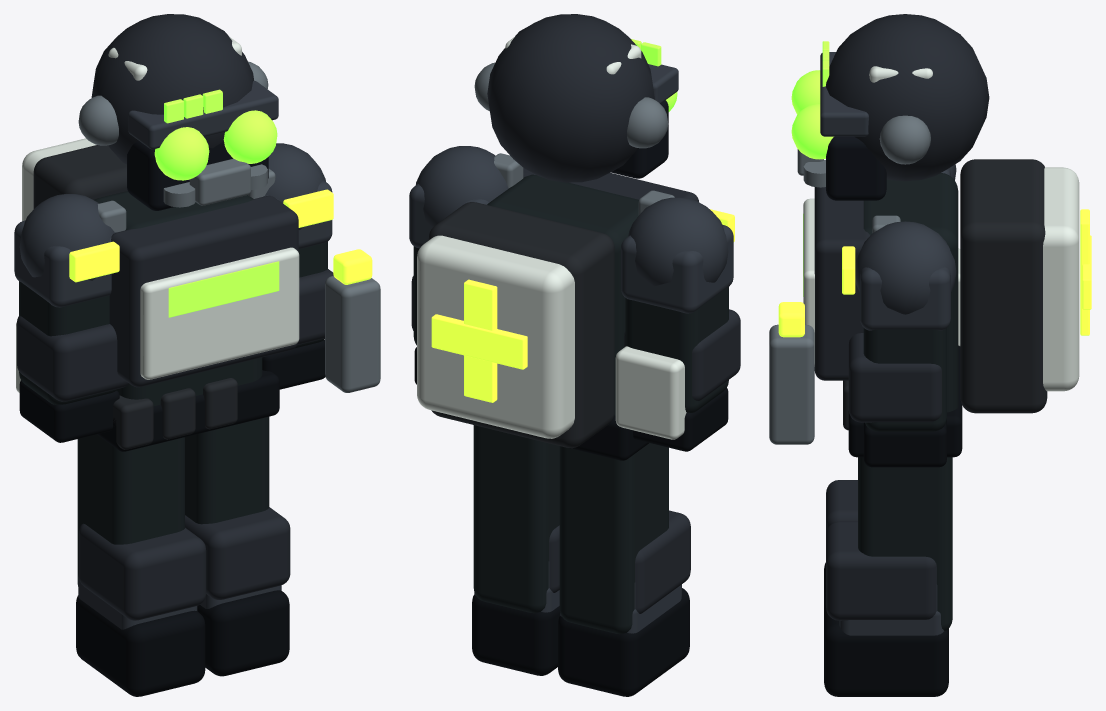
File: medic_l03.glb
The picture shows the model from 3 angles, left to right: view 1: azimuth 30°, elevation 25°; view 2: azimuth 150°, elevation 25°; view 3: azimuth 270°, elevation 25°; orthographic projection. The views are drawn at different scales.
Visible parts, largest first — view 1: trouser (×2), shaped_knee_guard (×2), boot (×2), segmented_vest, reinforced_vest, rounded_helmet, forearm_plate (×2), shoulder_joint (×2), aid_injector, glove (×2), body, sleeve (×2) (+19 smaller); view 2: trouser (×2), medical_pack, rounded_helmet, field_pack, boot (×2), shoulder_joint (×2), body, triage_satchel, shoulder_plate (×2), sleeve, shaped_knee_guard (×2), aid_cross_horizontal (+10 smaller); view 3: field_pack, rounded_helmet, trouser, shaped_knee_guard (×2), medical_pack, boot, segmented_vest, shoulder_joint, forearm_plate, body, aid_injector, sleeve (+15 smaller).
Part boxes in pixels (x1,y1,x2,y2): trouser (×2): [77, 416, 269, 586]; shaped_knee_guard (×2): [79, 507, 290, 620]; boot (×2): [76, 590, 289, 696]; segmented_vest: [109, 195, 298, 387]; reinforced_vest: [140, 247, 299, 379]; rounded_helmet: [91, 14, 254, 164]; forearm_plate (×2): [17, 269, 333, 401]; shoulder_joint (×2): [19, 143, 325, 280]; aid_injector: [325, 275, 380, 392]; glove (×2): [19, 340, 325, 442]; body: [94, 191, 262, 406]; sleeve (×2): [19, 241, 327, 404]; trouser (×2): [473, 425, 668, 634]; medical_pack: [417, 235, 574, 438]; rounded_helmet: [487, 14, 654, 182]; field_pack: [428, 202, 614, 448]; boot (×2): [472, 588, 689, 696]; shoulder_joint (×2): [416, 146, 728, 286]; body: [487, 174, 638, 415]; triage_satchel: [615, 346, 686, 439]; shoulder_plate (×2): [409, 184, 733, 313]; sleeve: [625, 286, 728, 412]; shaped_knee_guard (×2): [549, 510, 690, 613]; aid_cross_horizontal: [431, 314, 527, 369]; field_pack: [960, 159, 1047, 413]; rounded_helmet: [825, 14, 989, 181]; trouser: [858, 457, 952, 630]; shaped_knee_guard (×2): [826, 480, 936, 620]; medical_pack: [1043, 167, 1079, 391]; boot: [824, 604, 948, 696]; segmented_vest: [814, 187, 870, 380]; shoulder_joint: [855, 221, 956, 314]; forearm_plate: [848, 333, 941, 422]; body: [863, 173, 958, 412]; aid_injector: [769, 324, 814, 444]; sleeve: [863, 328, 946, 431].
Size of the model in its own units: 0.91 by 1.87 by 0.8525.
